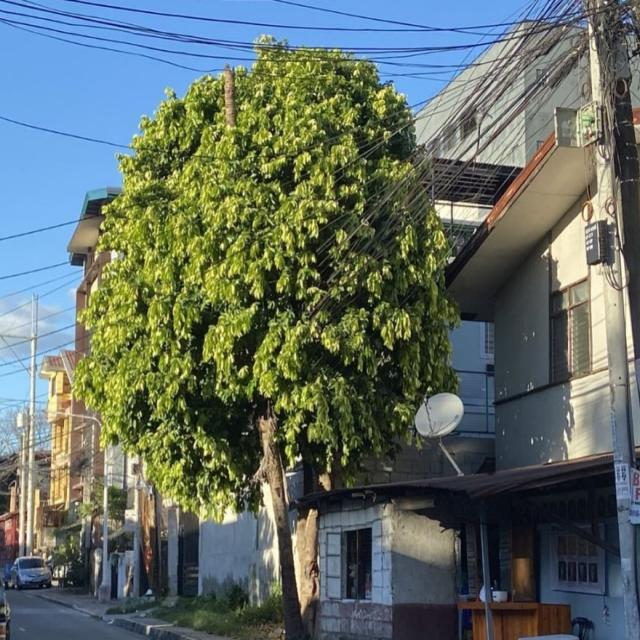Mango-Tree: (63, 29, 468, 608)
